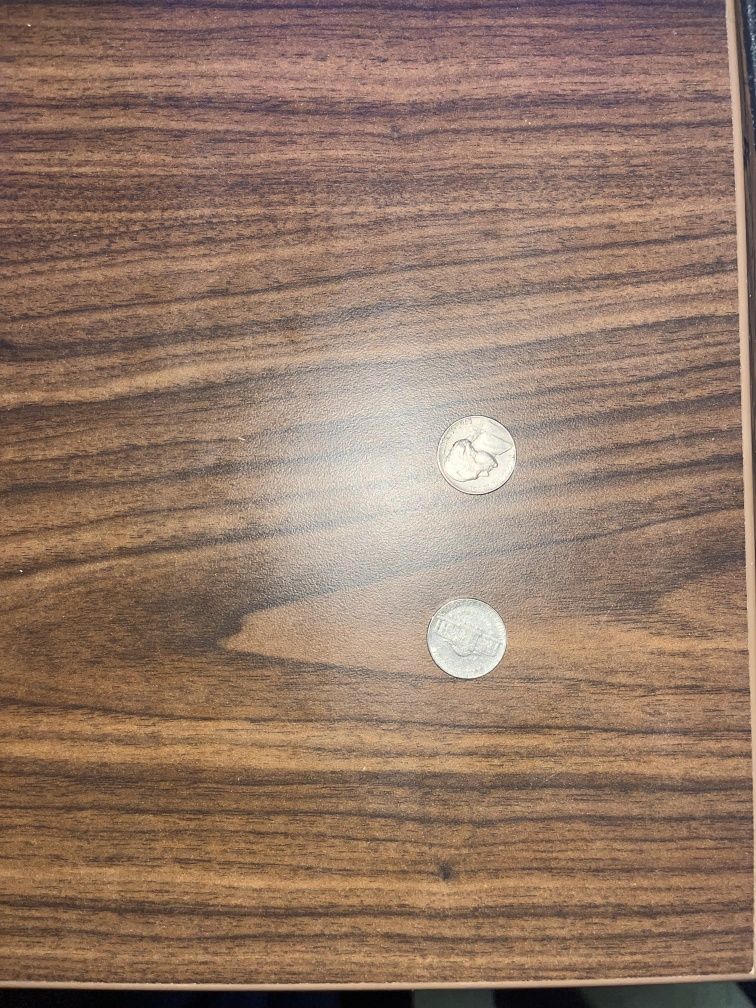nickel: (418, 592, 511, 685), (430, 410, 521, 504)
